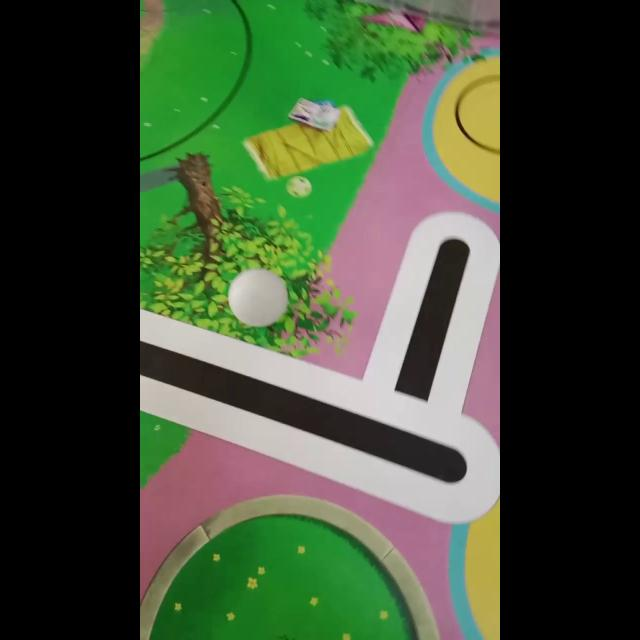white ball: (227, 268, 289, 328)
